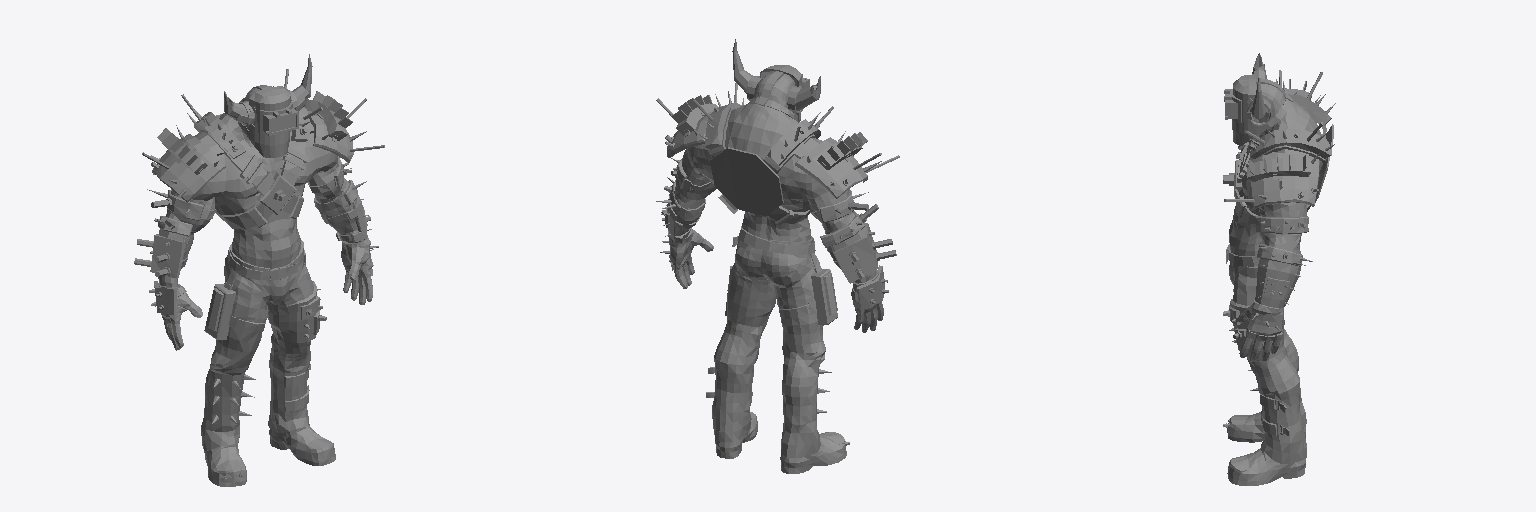
Rendered from Sledge.obj.
The picture shows the model from 3 angles: view 1: azimuth 30°, elevation 25°; view 2: azimuth 150°, elevation 25°; view 3: azimuth 270°, elevation 25°; orthographic projection.
Visible parts, largest first — view 1: Char_Sledge; view 2: Char_Sledge; view 3: Char_Sledge.
Boxes of the visible parts, <box> form: Char_Sledge: <box>134,54,384,486</box>; Char_Sledge: <box>656,39,899,473</box>; Char_Sledge: <box>1223,53,1335,485</box>.
Bounding box in the file's own units: 182 × 305 × 78.75.